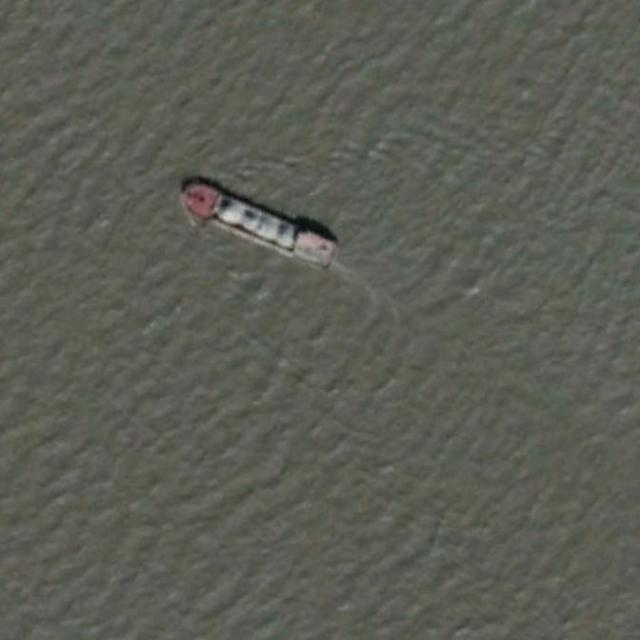ship: (173, 174, 337, 269)
